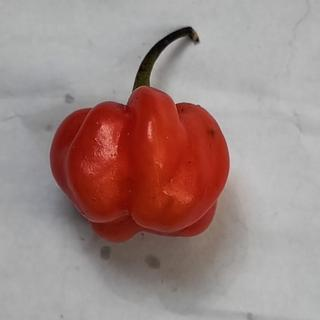Grade-B: (41, 81, 233, 242)
